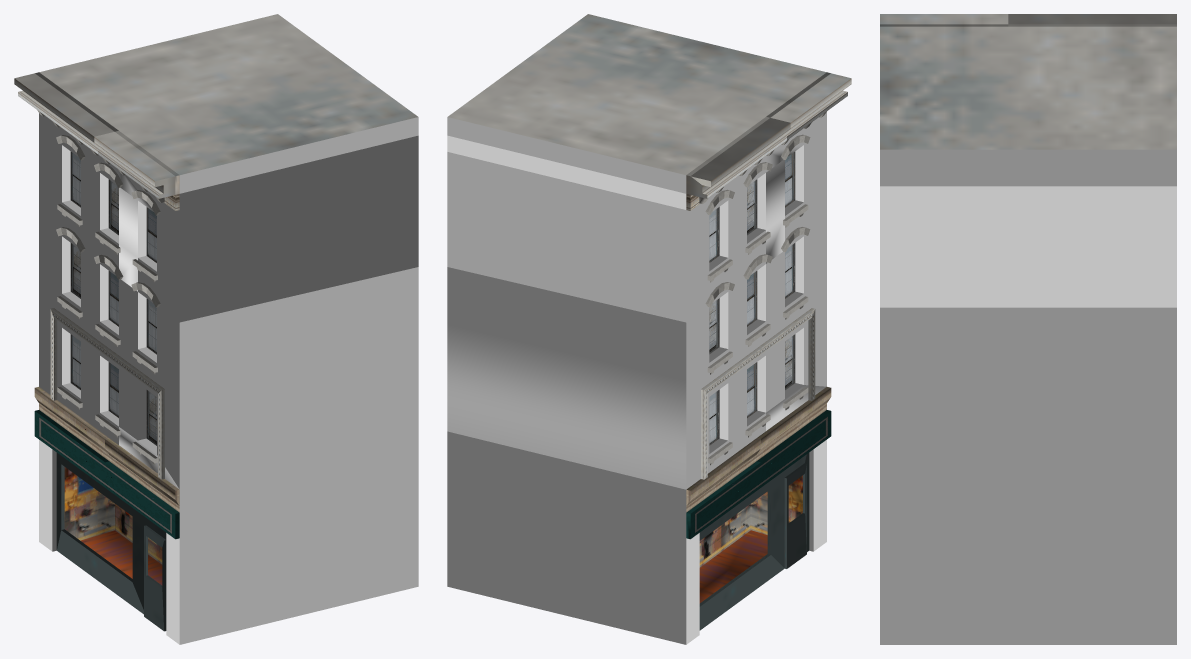
The model's file is Building_J.fbx.
3 renders of one model, left to right at view 1: azimuth 30°, elevation 25°; view 2: azimuth 150°, elevation 25°; view 3: azimuth 270°, elevation 25°, orthographic. The views are drawn at different scales.
Visible parts, largest first — view 1: City_Market_01:Building J; view 2: City_Market_01:Building J; view 3: City_Market_01:Building J.
Boxes of the visible parts, box(x1,y1,x2,y2) form: City_Market_01:Building J: box(14, 14, 418, 644); City_Market_01:Building J: box(447, 14, 851, 644); City_Market_01:Building J: box(880, 14, 1176, 644).
Size of the model in its own units: 6.62 by 11.28 by 6.12.
